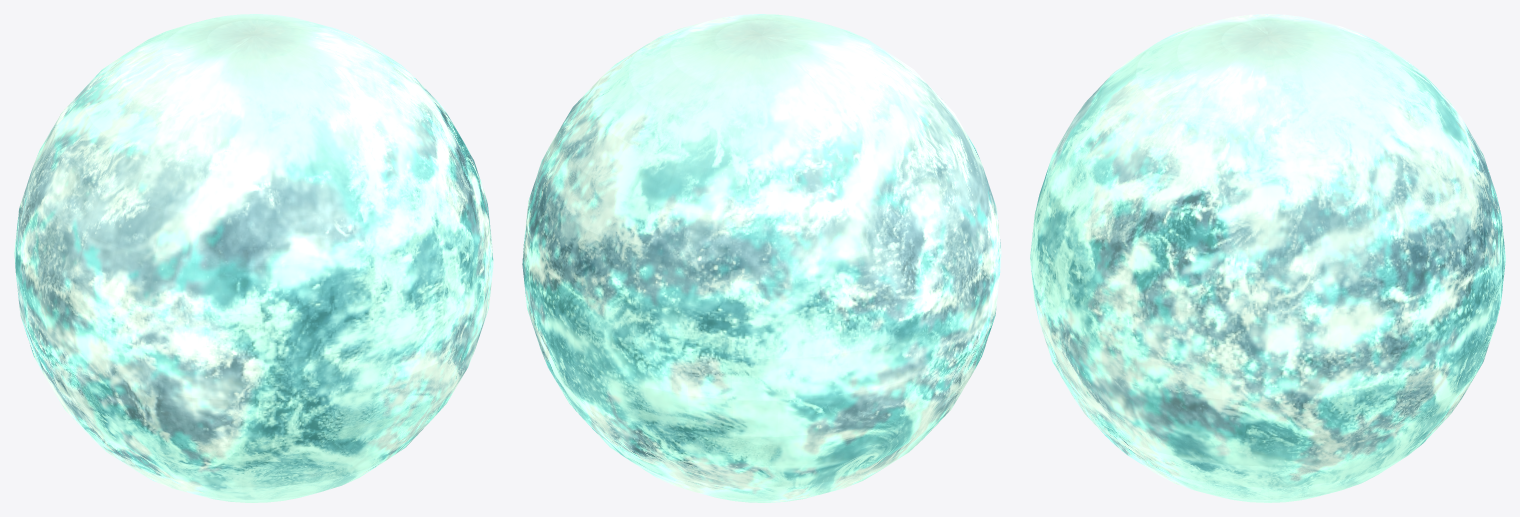
The model's file is kepler_22b.glb.
The picture shows the model from 3 angles, left to right: view 1: azimuth 30°, elevation 25°; view 2: azimuth 150°, elevation 25°; view 3: azimuth 270°, elevation 25°; orthographic projection.
Parts seen in each view (by area): view 1: Kepler 22b_2; view 2: Kepler 22b_2; view 3: Kepler 22b_2.
Boxes of the visible parts, bbox=[...] form: Kepler 22b_2: bbox=[14, 14, 493, 502]; Kepler 22b_2: bbox=[522, 14, 1001, 502]; Kepler 22b_2: bbox=[1030, 14, 1505, 502].
Size of the model in its own units: 13.71 by 14 by 13.56.
Materials: 1 (1 with a texture image).
